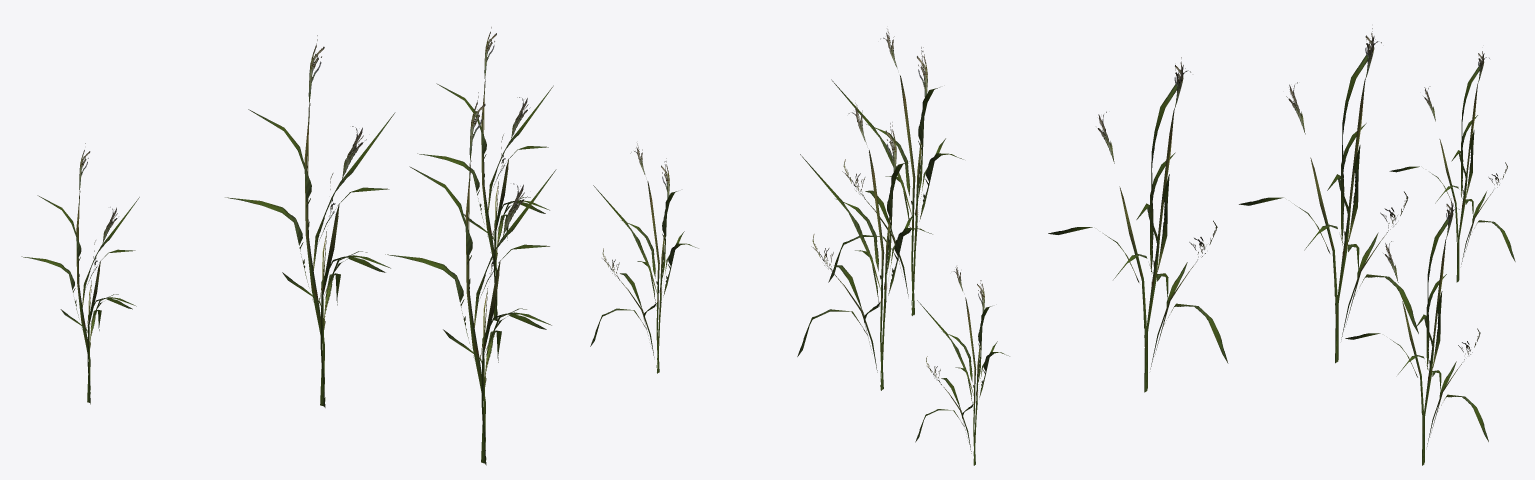
The model's file is grass_clump.glb.
3 renders of one model, left to right at view 1: azimuth 30°, elevation 25°; view 2: azimuth 150°, elevation 25°; view 3: azimuth 270°, elevation 25°, orthographic. The views are drawn at different scales.
Parts seen in each view (by area): view 1: grass_clump, ph-grass-tall-a-low; view 2: grass_clump, ph-grass-tall-a-low; view 3: grass_clump, ph-grass-tall-a-low.
Part boxes in pixels (x1,y1,x2,y2): grass_clump: [21, 27, 556, 465]; ph-grass-tall-a-low: [225, 35, 395, 407]; grass_clump: [590, 29, 1009, 465]; ph-grass-tall-a-low: [797, 103, 932, 390]; grass_clump: [1048, 51, 1515, 465]; ph-grass-tall-a-low: [1239, 28, 1418, 363].
Size of the model in its own units: 0.6691 by 0.4516 by 0.5505.
1 material, 1 textured.
